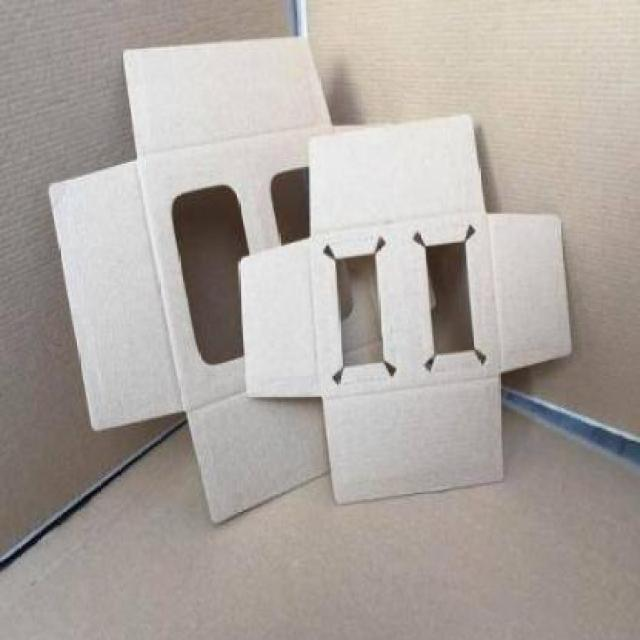box: (40, 26, 348, 543), (240, 114, 612, 507)
